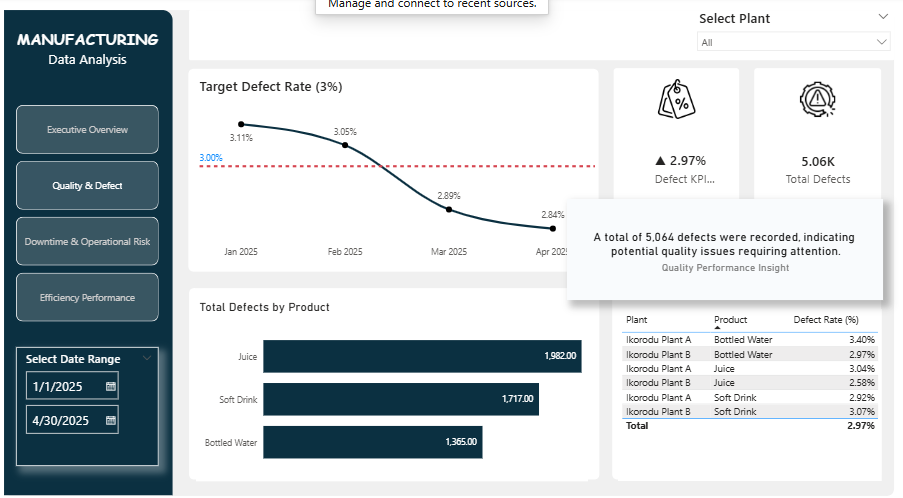

Layout of this report page (visuals, bound fields, positions):
{"tool":"powerbi","page":{"name":"Quality & Defect","canvas":[1280,720],"ordinal":1},"visuals":[{"type":"textbox","box":[11.2,20.9,238.6,100.5],"z":0},{"type":"slicer","fields":{"Values":["Date_Table.Date"]},"box":[30.6,488.9,198.6,166.4],"z":1000},{"type":"barChart","fields":{"Category":["Manufacturing.Product"],"Y":["Manufacturing.Total Defects"]},"box":[282,423.1,547,252.6],"z":2000},{"type":"lineChart","title":"Target Defect Rate (3%)","fields":{"Category":["Date_Table.Month Year"],"Y":["Manufacturing.Defect Rate (%)"]},"box":[282,111.6,561,261.9],"z":3000},{"type":"tableEx","fields":{"Values":["Manufacturing.Plant","Manufacturing.Product","Manufacturing.Defect Rate (%)"]},"box":[870.7,435.3,368.4,240],"z":4000},{"type":"cardVisual","fields":{"Data":["Manufacturing.Defect KPI Display"]},"box":[870.9,155,175.1,168.9],"z":5000},{"type":"cardVisual","fields":{"Data":["Manufacturing.Total Defects"]},"box":[1060,151.9,179.8,175.1],"z":6000},{"type":"slicer","fields":{"Values":["Manufacturing.Plant"]},"box":[971.6,10.8,289.8,89.9],"z":7000},{"type":"pageNavigator","box":[31.1,151.2,199.2,302.3],"z":8000},{"type":"card","fields":{"Values":["Manufacturing.Quality Insight"]},"box":[799.5,281.9,440.9,140.9],"z":9000}]}

Visuals, with their boxes on the page's 1280x720 design canvas (x1, y1, x2, y2). These are canvas units, not pixel positions in the 903x498 screenshot, which may show the page scaled, cropped or inside an application window:
textbox: x1=11, y1=21, x2=250, y2=121
slicer - Date_Table.Date: x1=31, y1=489, x2=229, y2=655
barChart - Manufacturing.Product x Manufacturing.Total Defects: x1=282, y1=423, x2=829, y2=676
"Target Defect Rate (3%)" lineChart: x1=282, y1=112, x2=843, y2=374
tableEx - Manufacturing.Plant x Manufacturing.Product: x1=871, y1=435, x2=1239, y2=675
cardVisual - Manufacturing.Defect KPI Display: x1=871, y1=155, x2=1046, y2=324
cardVisual - Manufacturing.Total Defects: x1=1060, y1=152, x2=1240, y2=327
slicer - Manufacturing.Plant: x1=972, y1=11, x2=1261, y2=101
pageNavigator: x1=31, y1=151, x2=230, y2=454
card - Manufacturing.Quality Insight: x1=800, y1=282, x2=1240, y2=423
